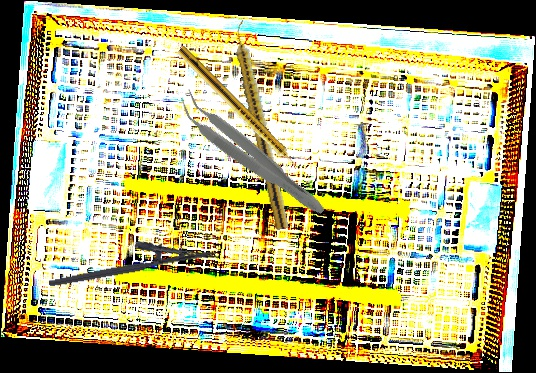Handpiece: (174, 45, 302, 173), (228, 19, 294, 231)
Needle Holder: (44, 228, 217, 288)
Tissue Forceps: (170, 87, 335, 222)
